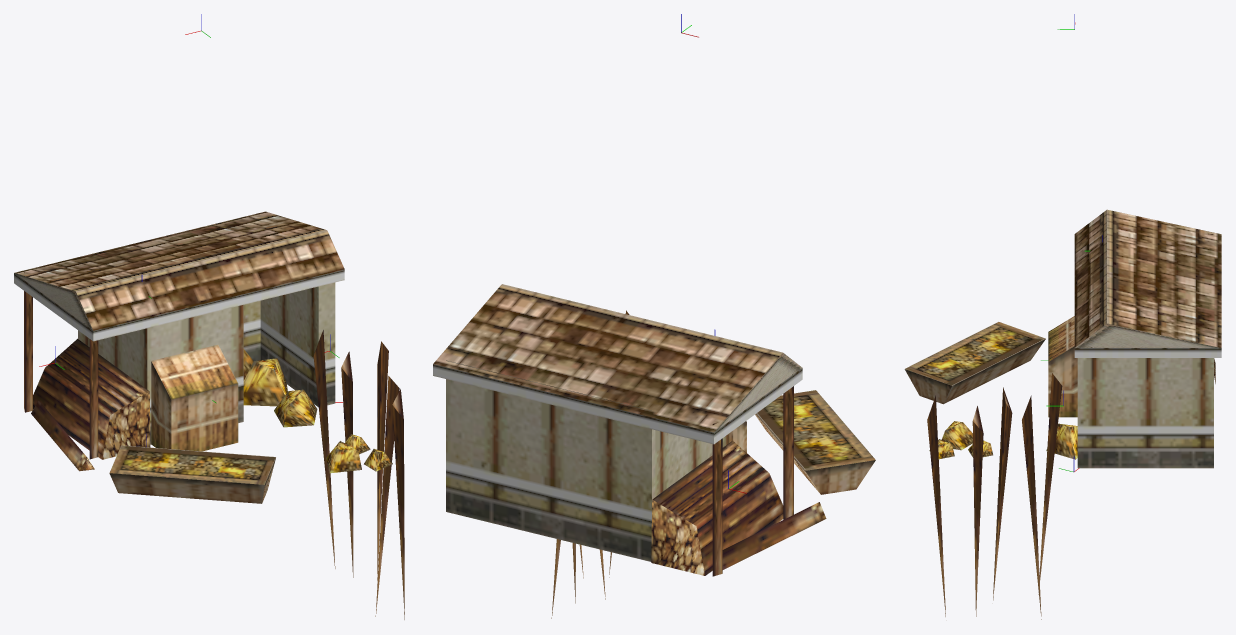
Rendered from greek-storehouse.glb.
3 renders of one model, left to right at view 1: azimuth 30°, elevation 25°; view 2: azimuth 150°, elevation 25°; view 3: azimuth 270°, elevation 25°, orthographic. The views are drawn at different scales.
Visible parts, largest first — view 1: building g mining campage0Model; view 2: building g mining campage0Model; view 3: building g mining campage0Model.
Part boxes in pixels (x1,y1,x2,y2): building g mining campage0Model: (14,211,404,619); building g mining campage0Model: (433,284,875,618); building g mining campage0Model: (904,209,1221,619).
Size of the model in its own units: 4.38 by 8.78 by 4.57.
3 materials, 2 textured.
